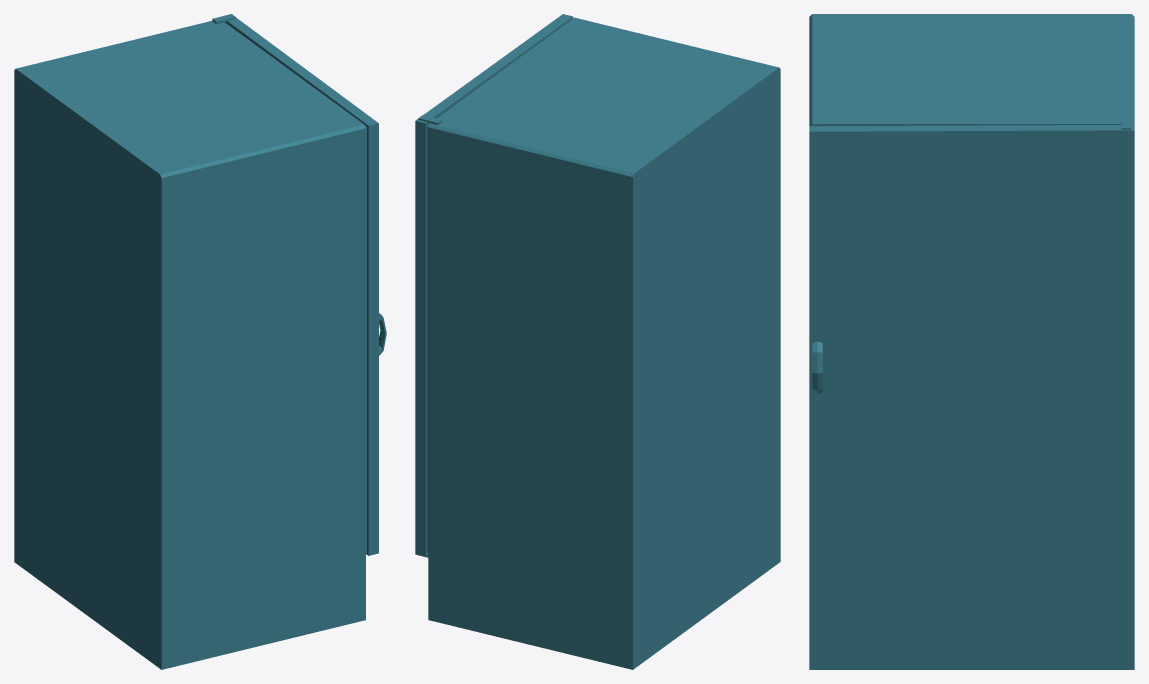
The model's file is refrigerator.fbx.
3 renders of one model, left to right at view 1: azimuth 30°, elevation 25°; view 2: azimuth 150°, elevation 25°; view 3: azimuth 270°, elevation 25°, orthographic. The views are drawn at different scales.
Visible parts, largest first — view 1: refrigerator, refrigeratorDoor; view 2: refrigerator, refrigeratorDoor; view 3: refrigeratorDoor, refrigerator.
Part boxes in pixels (<box>): refrigerator: <box>14,21,365,669</box>; refrigeratorDoor: <box>225,14,386,555</box>; refrigerator: <box>428,17,780,669</box>; refrigeratorDoor: <box>415,14,573,556</box>; refrigeratorDoor: <box>809,124,1134,608</box>; refrigerator: <box>809,14,1134,669</box>.
Size of the model in its own units: 178 by 372 by 200.
